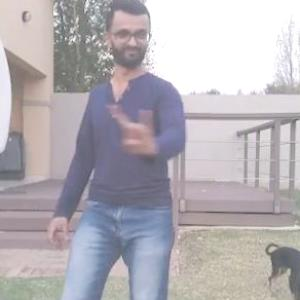takeoff-hand: (113, 105, 159, 157)
